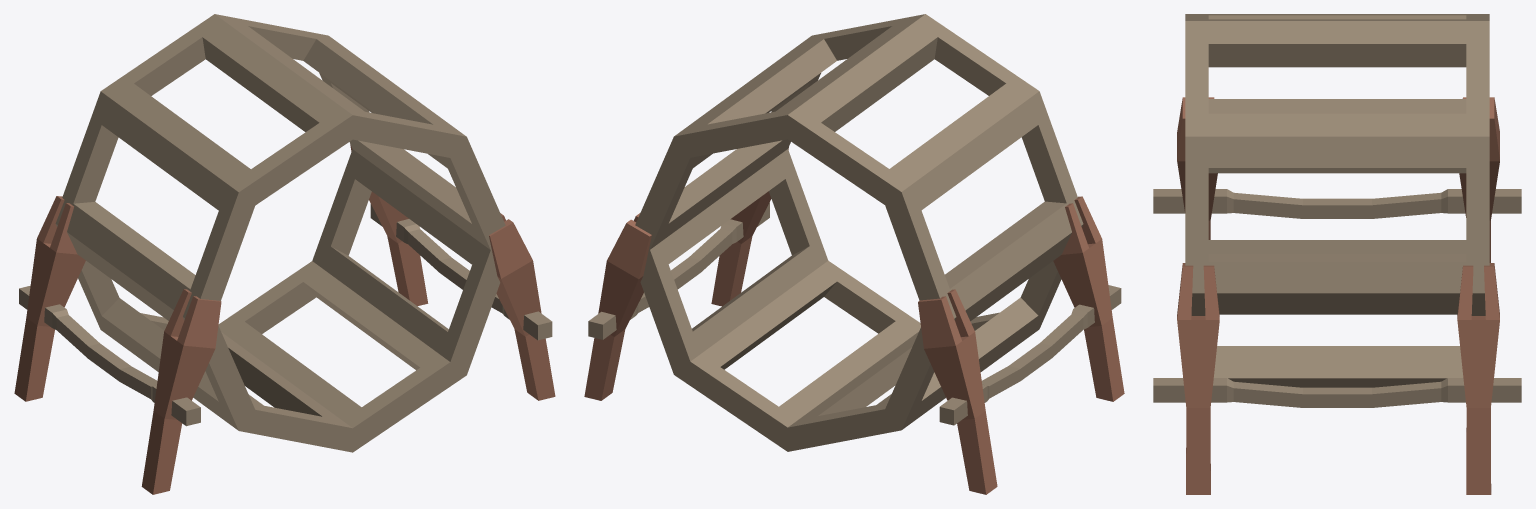
File: power_wheel.fbx
The picture shows the model from 3 angles, left to right: view 1: azimuth 30°, elevation 25°; view 2: azimuth 150°, elevation 25°; view 3: azimuth 270°, elevation 25°; orthographic projection. The views are drawn at different scales.
Parts seen in each view (by area): view 1: Cylinder.001, Cylinder; view 2: Cylinder.001, Cylinder; view 3: Cylinder.001, Cylinder.
Boxes of the visible parts, x1=… form: Cylinder.001: x1=55, y1=14, x2=505, y2=452; Cylinder: x1=14, y1=144, x2=555, y2=494; Cylinder.001: x1=635, y1=14, x2=1083, y2=451; Cylinder: x1=584, y1=147, x2=1124, y2=494; Cylinder.001: x1=1185, y1=14, x2=1489, y2=387; Cylinder: x1=1153, y1=97, x2=1521, y2=494.
Bounding box in the file's own units: 267 × 214 × 192.
